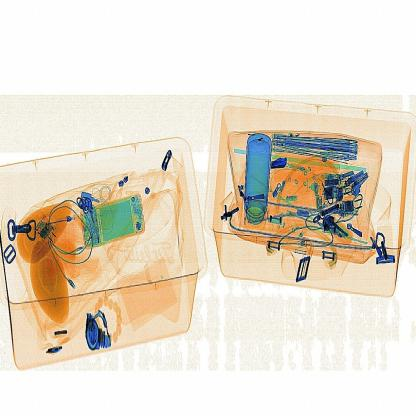knife: (264, 150, 294, 176)
